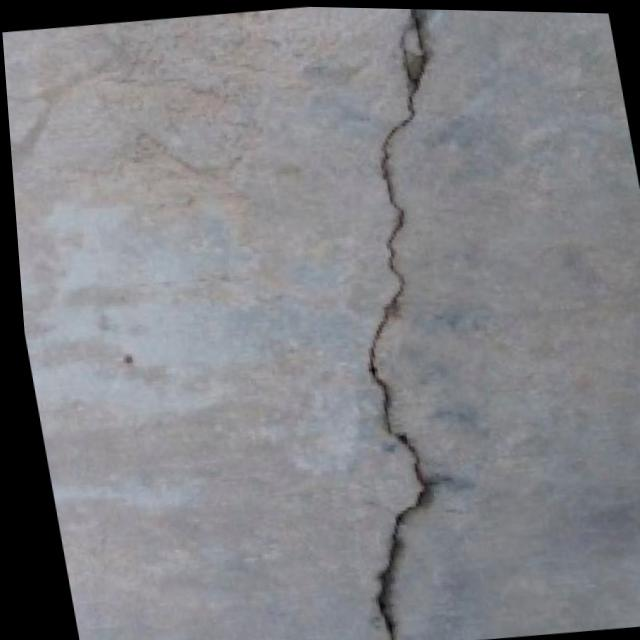Crack: (244, 4, 555, 640)
